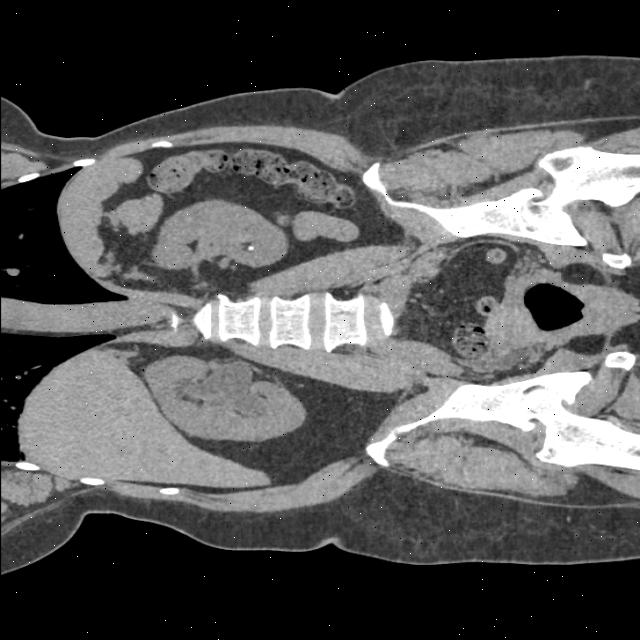kidneystone: (241, 241, 256, 251)
